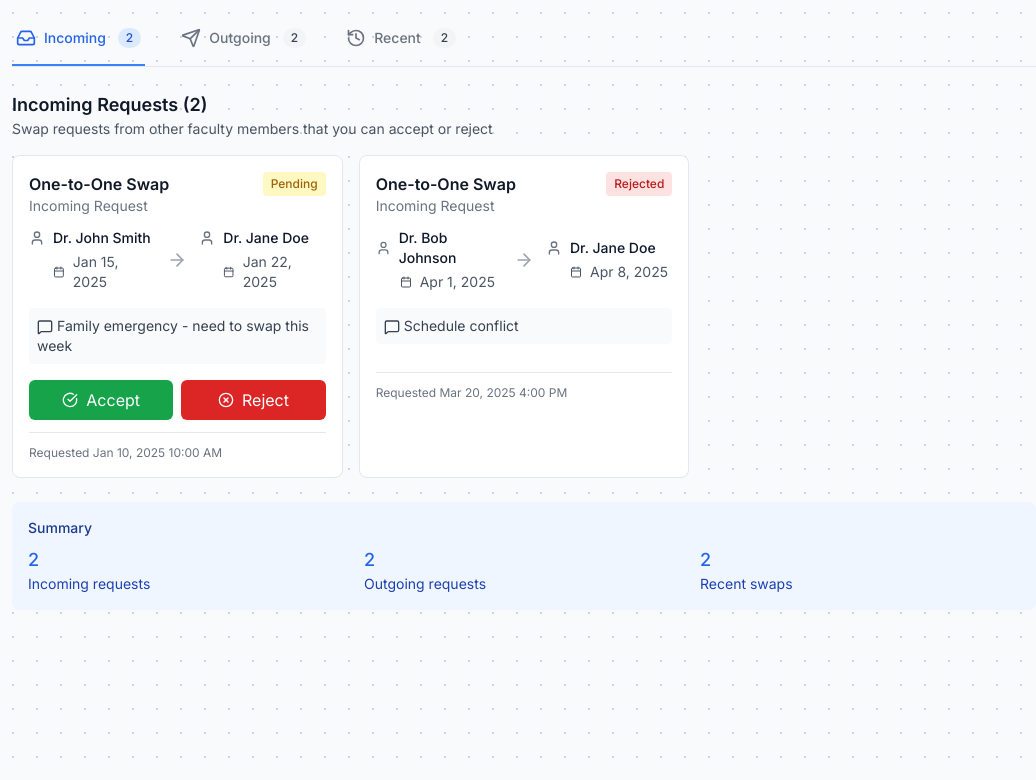
Scenario: MySwapRequests › Recent Tab › should display recent swaps when tab is clicked
The image size is (1036, 780).
Click the tab "Recent 2": (401, 39) [342, 12, 460, 66]
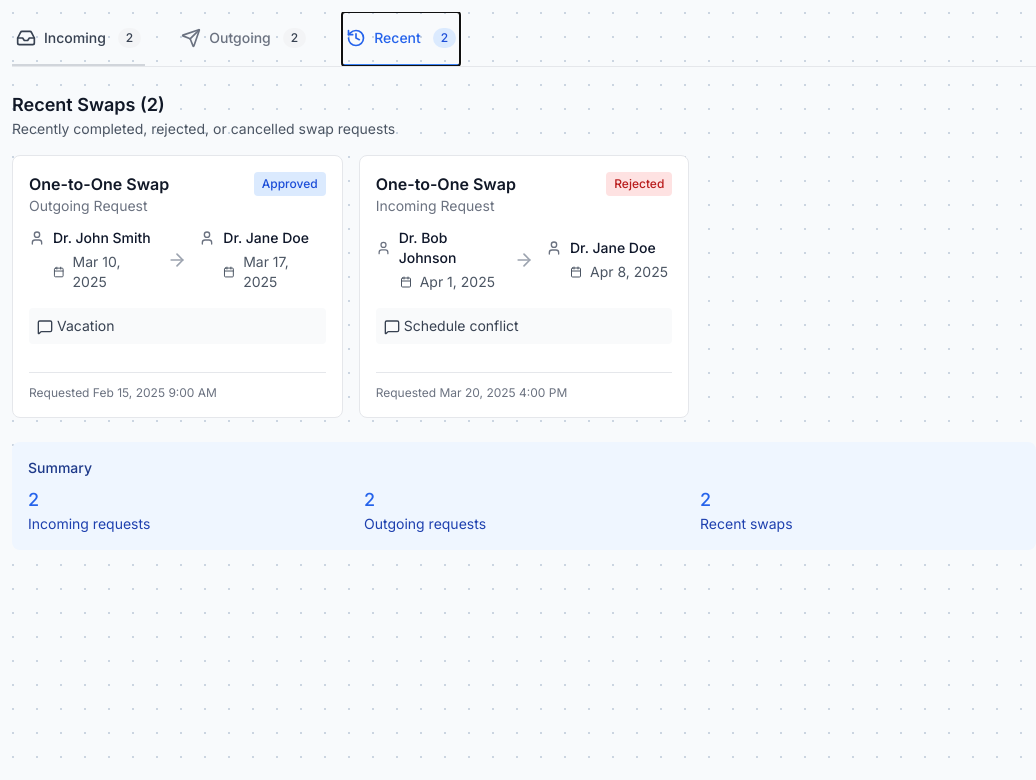
Expected: the heading "Recent Swaps (2)" is shown, [12, 94, 165, 115]
Expected: the text "Recently completed, rejected, or cancelled swap requests" is shown, [12, 120, 395, 137]
